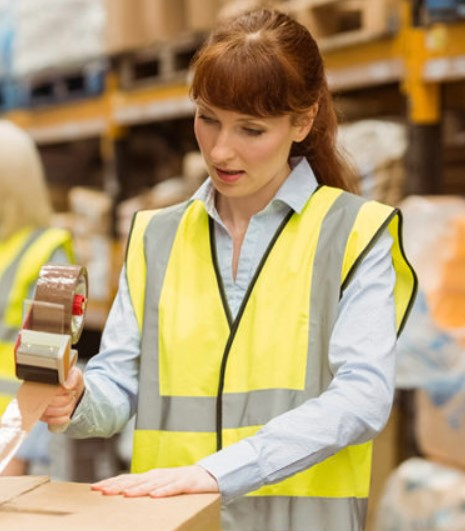worker: (125, 11, 396, 499)
